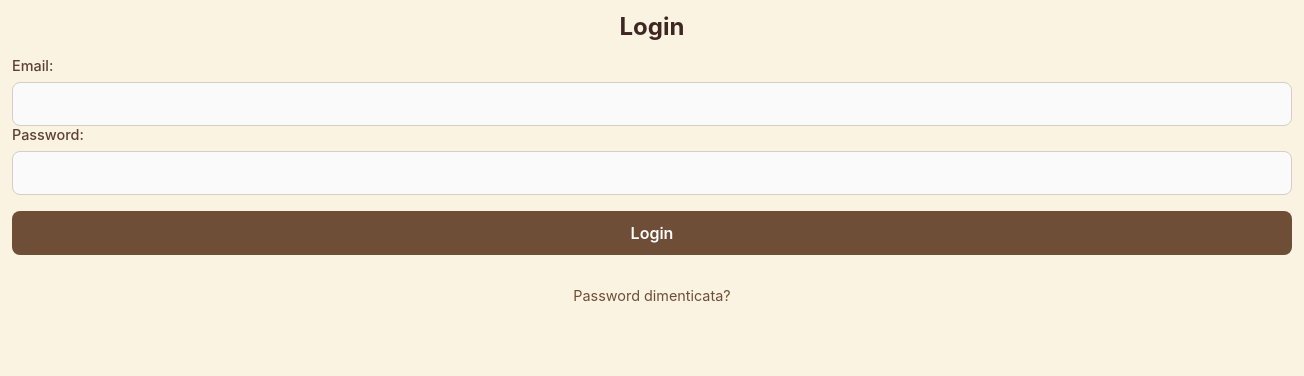
Test case: Login Page › handles login error
In the field labelled "Email:": (652, 104) [12,82,1292,126], type "test@example.com"
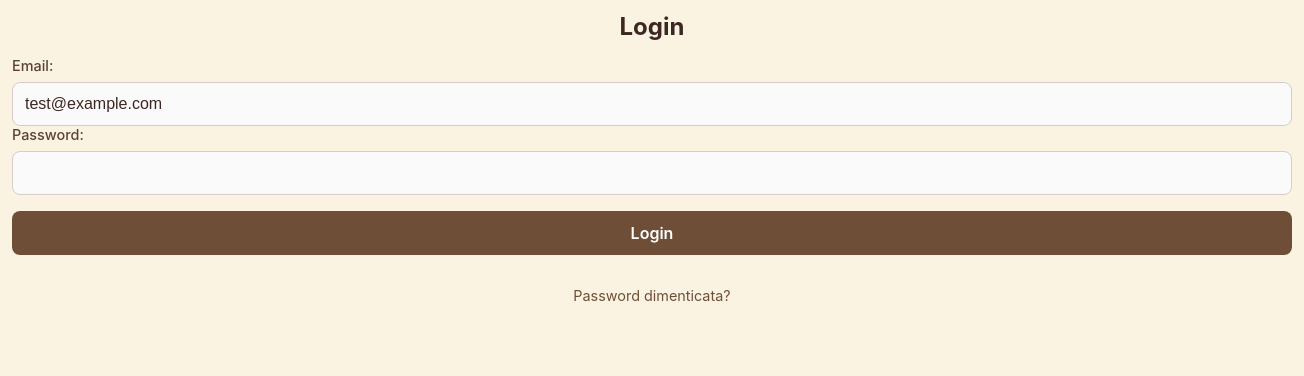
In the password field labelled "Password:": (652, 173) [12,151,1292,195], type "wrong-pass"
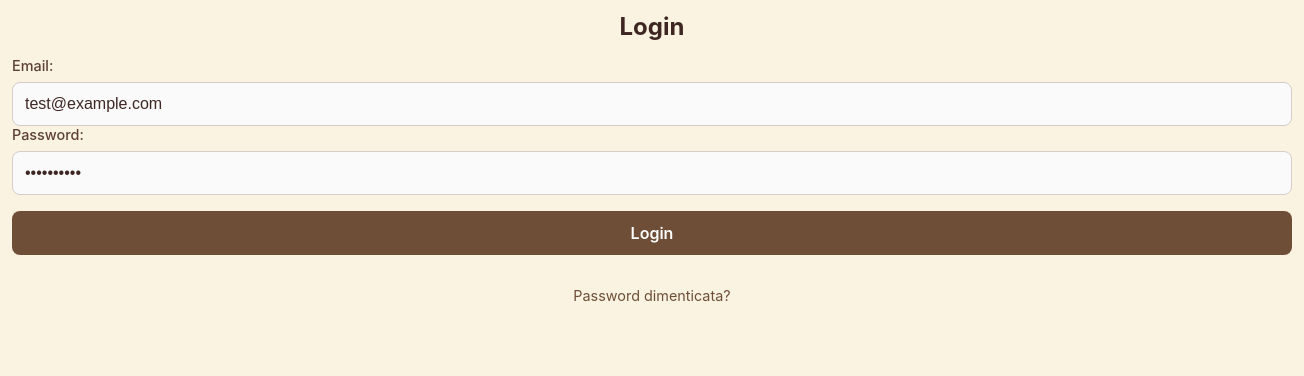
Click the button "Login": (652, 233) [12,211,1292,255]
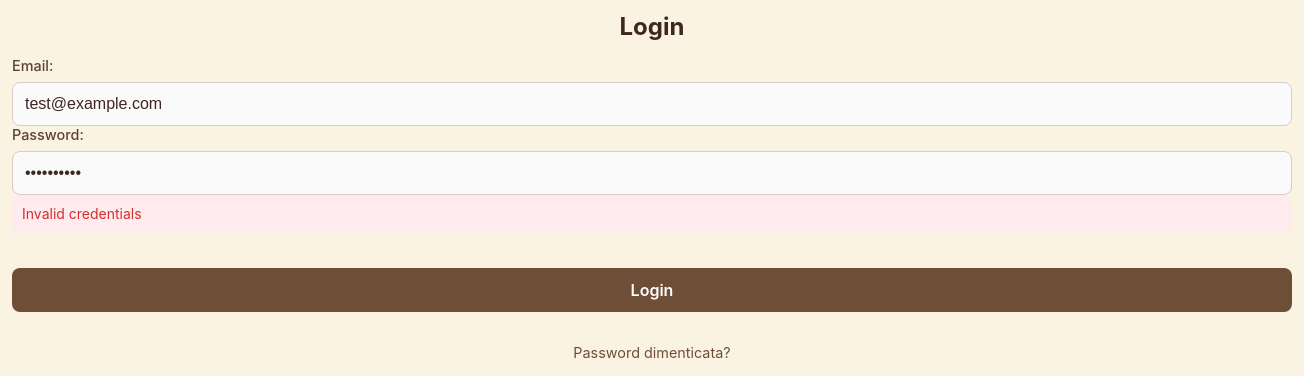
expect the text "Invalid credentials" is shown: met, box [12,195,1292,232]
